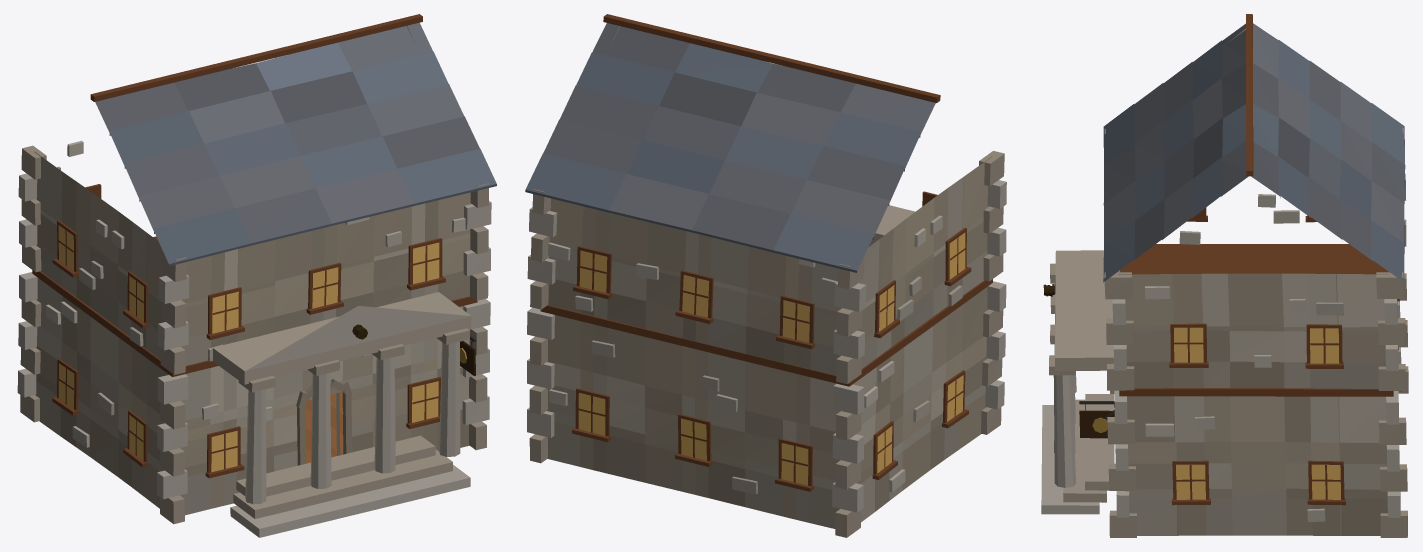
File: bank.glb
3 views of the same model, side by side, from view 1: azimuth 30°, elevation 25°; view 2: azimuth 150°, elevation 25°; view 3: azimuth 270°, elevation 25° (orthographic). The views are drawn at different scales.
Parts seen in each view (by area): view 1: buildings/bank; view 2: buildings/bank; view 3: buildings/bank.
Boxes of the visible parts, x1,y1,x2,y2 form: buildings/bank: [17, 14, 496, 537]; buildings/bank: [525, 14, 1006, 537]; buildings/bank: [1041, 14, 1408, 537].
Bounding box in the file's own units: 7.68 × 8.46 × 7.58.
